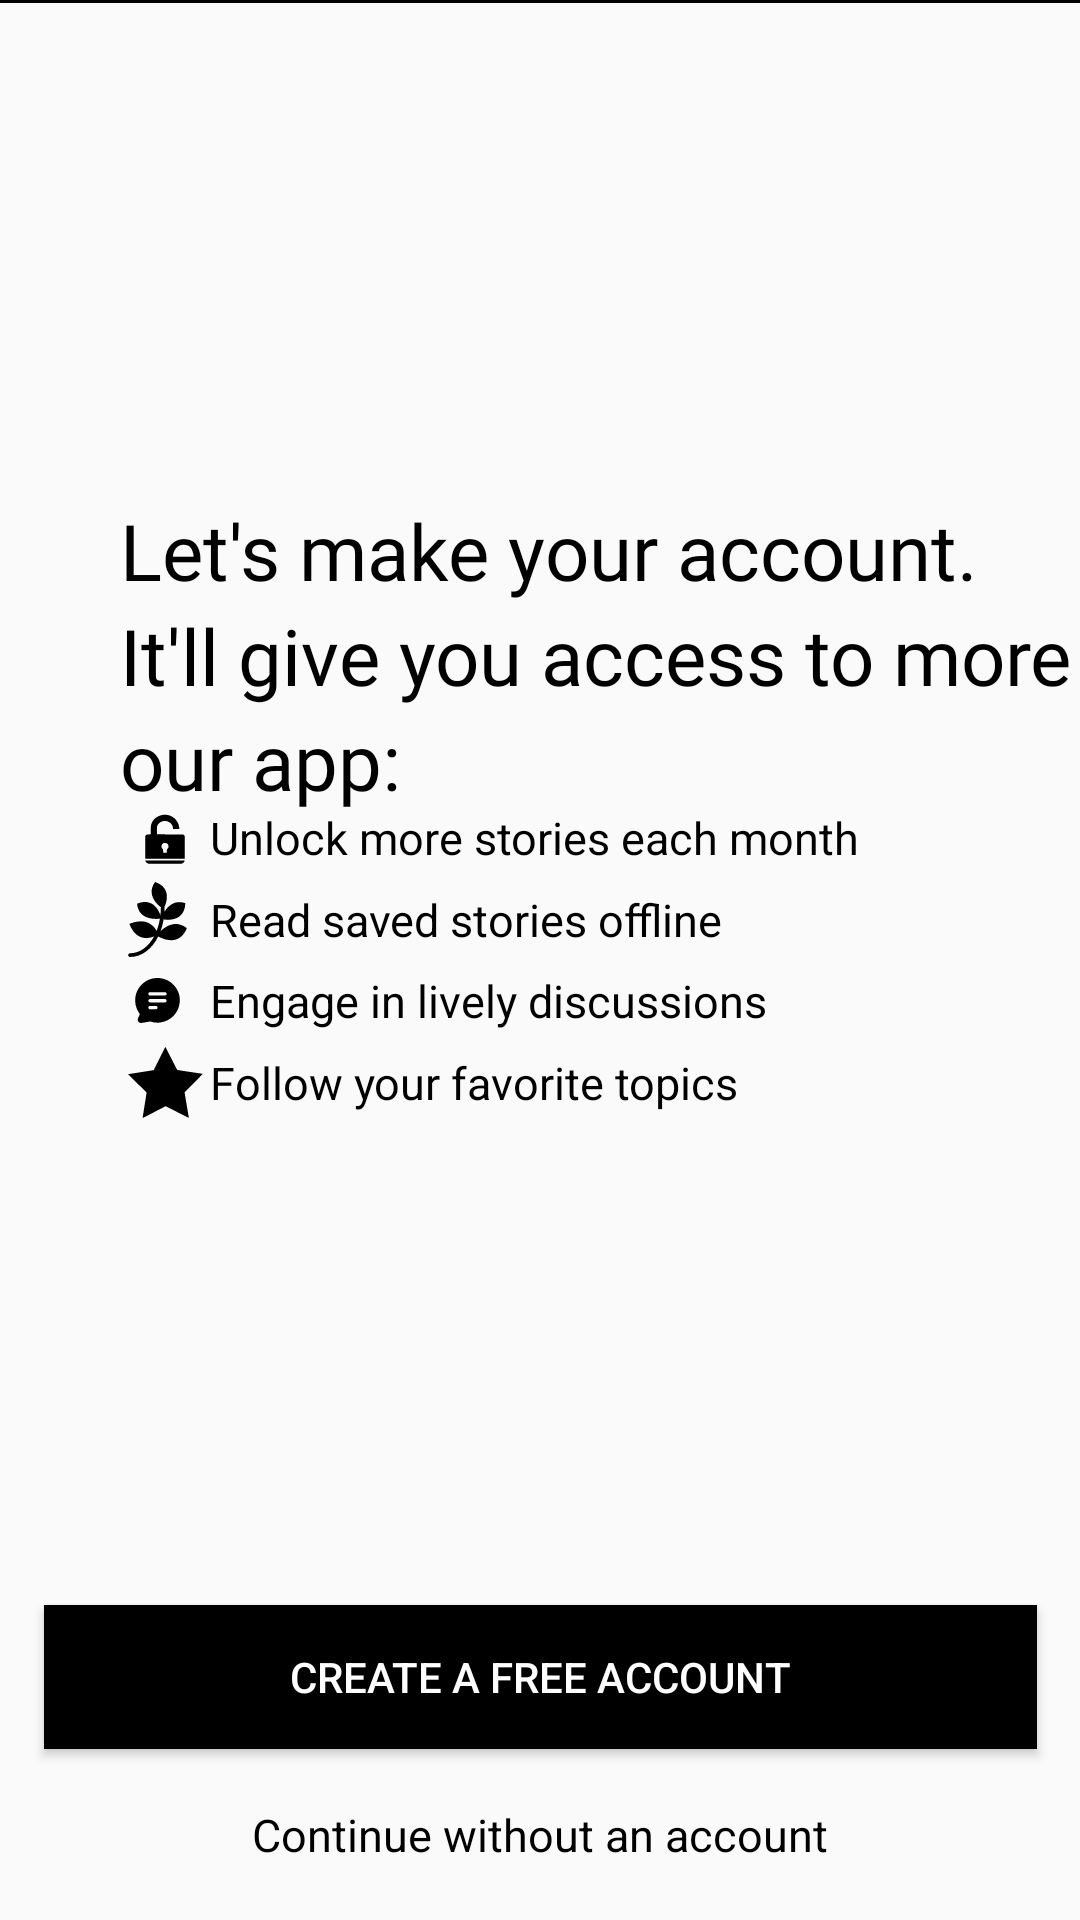

Icons on this 1080w x 1920h Android screen, each with its box as region(x1, y1, x2, y2):
illustration of lock: region(145, 814, 185, 864)
starfronticon: region(128, 1047, 203, 1118)
